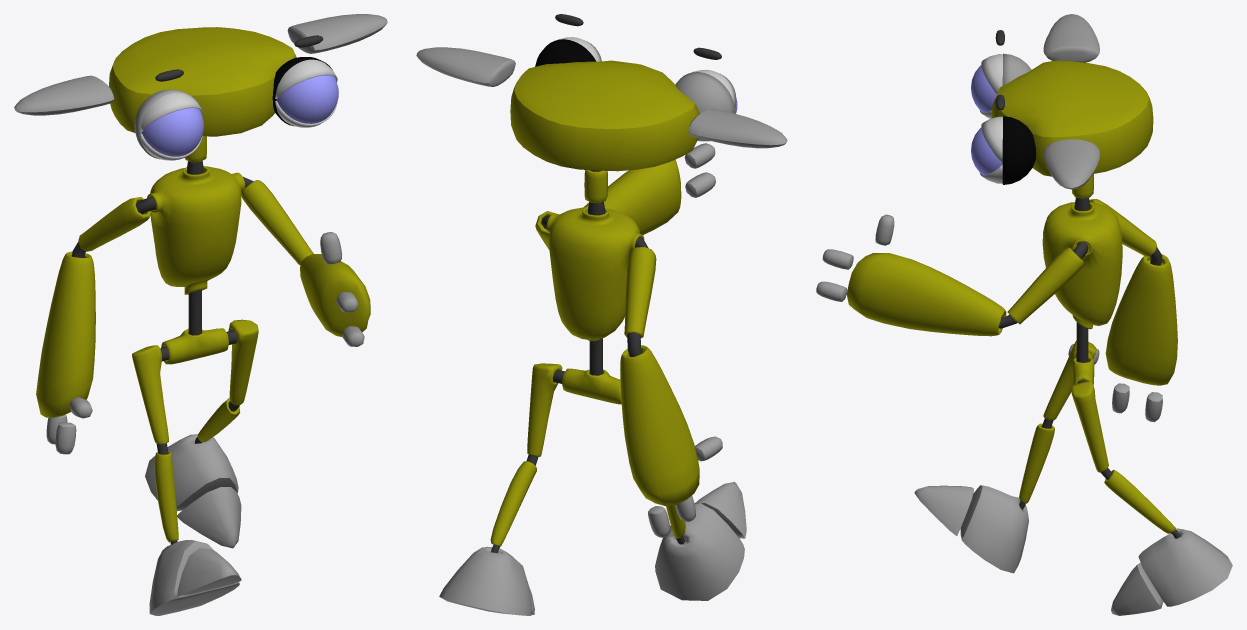
File: walk5.obj
3 renders of one model, left to right at view 1: azimuth 30°, elevation 25°; view 2: azimuth 150°, elevation 25°; view 3: azimuth 270°, elevation 25°, orthographic. The views are drawn at different scales.
Visible parts, largest first — view 1: Mesh polySurface50, Mesh polySurface41, Mesh polySurface37, Mesh polySurface48, Mesh polySurface18, Mesh polySurface10, Mesh polySurface8, Mesh polySurface47, Mesh polySurface51, Mesh polySurface6, Mesh polySurface22, Mesh polySurface28 (+16 smaller); view 2: Mesh polySurface50, Mesh polySurface41, Mesh polySurface37, Mesh polySurface48, Mesh polySurface26, Mesh polySurface10, Mesh polySurface18, Mesh polySurface47, Mesh polySurface38, Mesh polySurface44, Mesh polySurface12, Mesh polySurface21 (+5 smaller); view 3: Mesh polySurface18, Mesh polySurface50, Mesh polySurface37, Mesh polySurface41, Mesh polySurface10, Mesh polySurface26, Mesh polySurface48, Mesh polySurface44, Mesh polySurface51, Mesh polySurface4, Mesh polySurface24, Mesh polySurface12 (+12 smaller).
Boxes of the visible parts, bbox=[...] form: Mesh polySurface50: bbox=[112, 27, 294, 95]; Mesh polySurface41: bbox=[147, 166, 245, 294]; Mesh polySurface37: bbox=[36, 251, 95, 417]; Mesh polySurface48: bbox=[109, 50, 296, 136]; Mesh polySurface18: bbox=[300, 254, 370, 336]; Mesh polySurface10: bbox=[145, 434, 238, 507]; Mesh polySurface8: bbox=[177, 487, 241, 548]; Mesh polySurface47: bbox=[14, 75, 114, 112]; Mesh polySurface51: bbox=[241, 180, 313, 265]; Mesh polySurface6: bbox=[276, 75, 338, 123]; Mesh polySurface22: bbox=[142, 108, 203, 156]; Mesh polySurface28: bbox=[132, 345, 168, 444]; Mesh polySurface50: bbox=[514, 60, 695, 128]; Mesh polySurface41: bbox=[546, 206, 644, 341]; Mesh polySurface37: bbox=[620, 345, 699, 505]; Mesh polySurface48: bbox=[510, 83, 698, 170]; Mesh polySurface26: bbox=[655, 503, 744, 600]; Mesh polySurface10: bbox=[439, 546, 531, 615]; Mesh polySurface18: bbox=[584, 159, 681, 234]; Mesh polySurface47: bbox=[688, 108, 787, 145]; Mesh polySurface38: bbox=[624, 247, 656, 338]; Mesh polySurface44: bbox=[416, 47, 513, 83]; Mesh polySurface12: bbox=[527, 363, 562, 456]; Mesh polySurface21: bbox=[675, 72, 735, 141]; Mesh polySurface18: bbox=[846, 253, 1006, 336]; Mesh polySurface50: bbox=[995, 60, 1148, 137]; Mesh polySurface37: bbox=[1105, 254, 1177, 385]; Mesh polySurface41: bbox=[1042, 202, 1122, 329]; Mesh polySurface10: bbox=[1138, 528, 1232, 606]; Mesh polySurface26: bbox=[962, 485, 1028, 573]; Mesh polySurface48: bbox=[991, 93, 1153, 176]; Mesh polySurface44: bbox=[1043, 139, 1099, 187]; Mesh polySurface51: bbox=[1007, 247, 1083, 324]; Mesh polySurface4: bbox=[1002, 116, 1035, 184]; Mesh polySurface24: bbox=[914, 485, 973, 535]; Mesh polySurface12: bbox=[1071, 381, 1108, 472].
Bounding box in the file's own units: 10.05 × 14.23 × 10.25.
